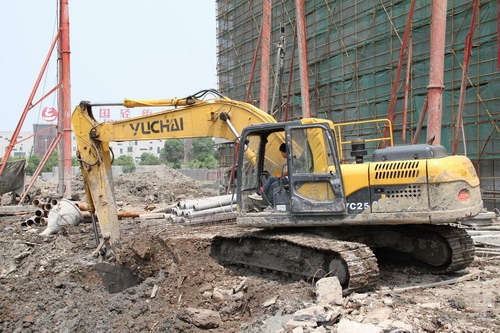excavator: (61, 93, 499, 295)
